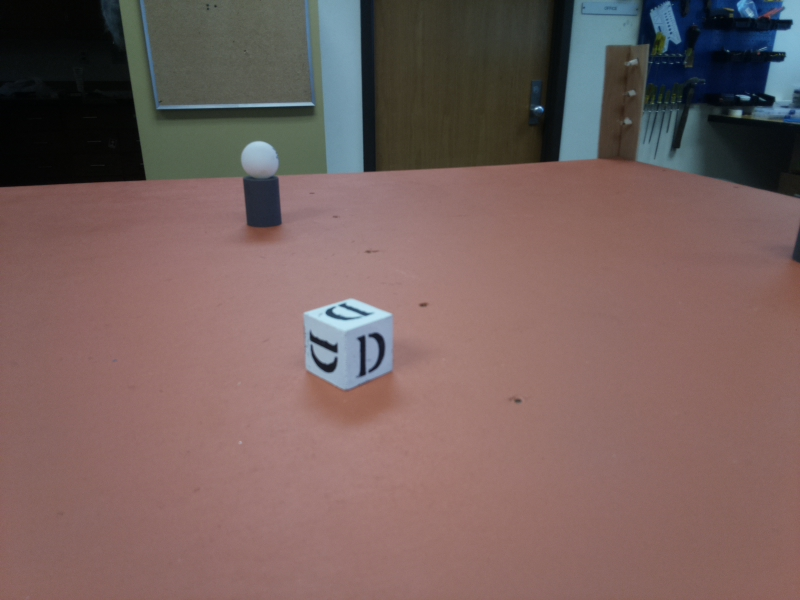blockD: (298, 293, 402, 393)
corner: (594, 43, 655, 166)
obstacle: (242, 138, 283, 227)
